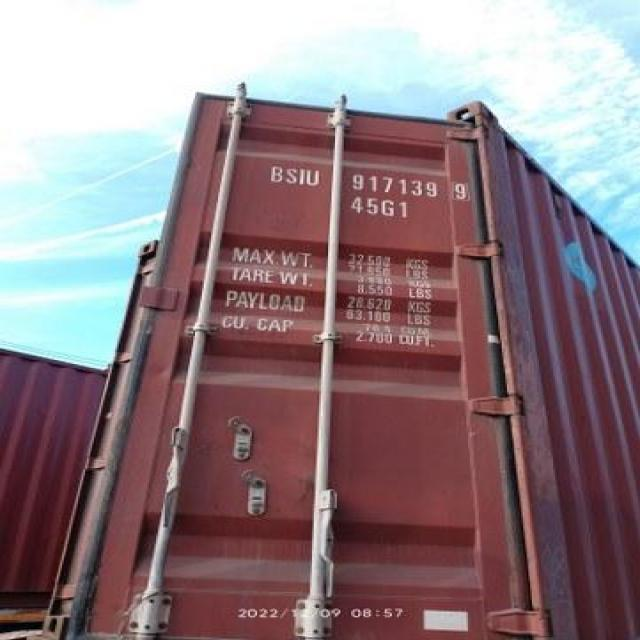container_number_h: (254, 148, 486, 238)
